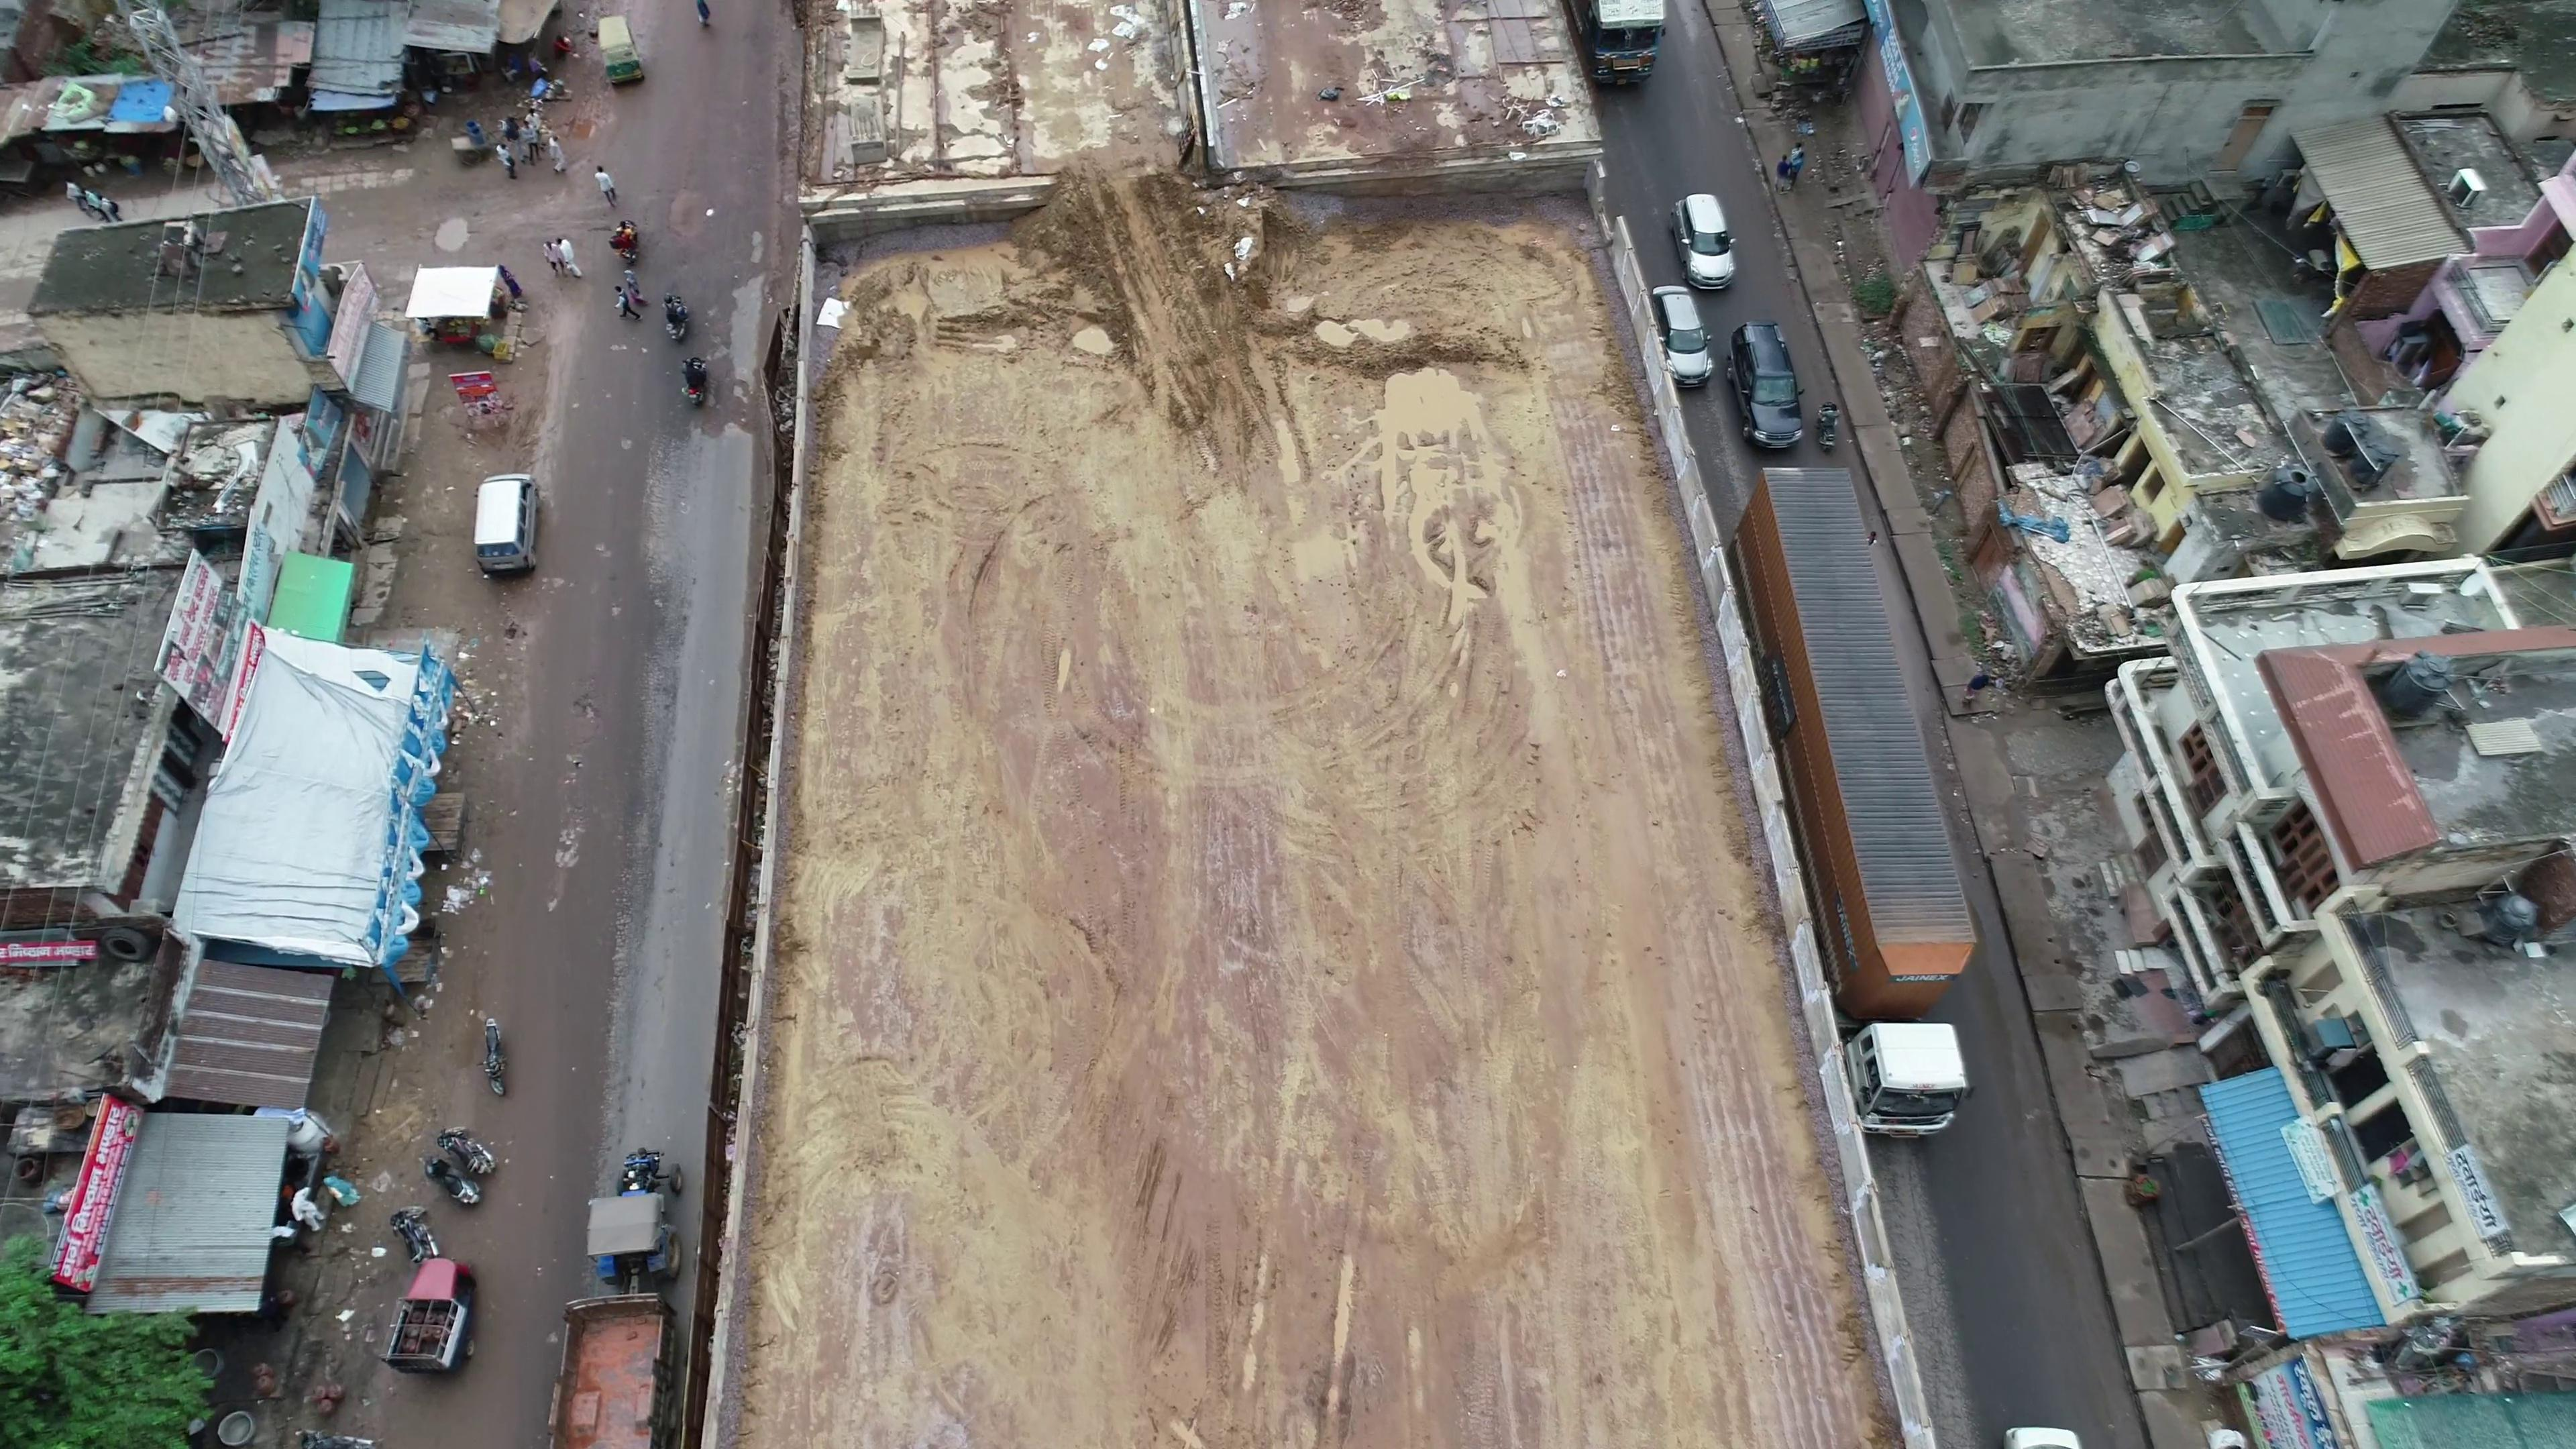Potholes: (607, 886, 637, 1021)
